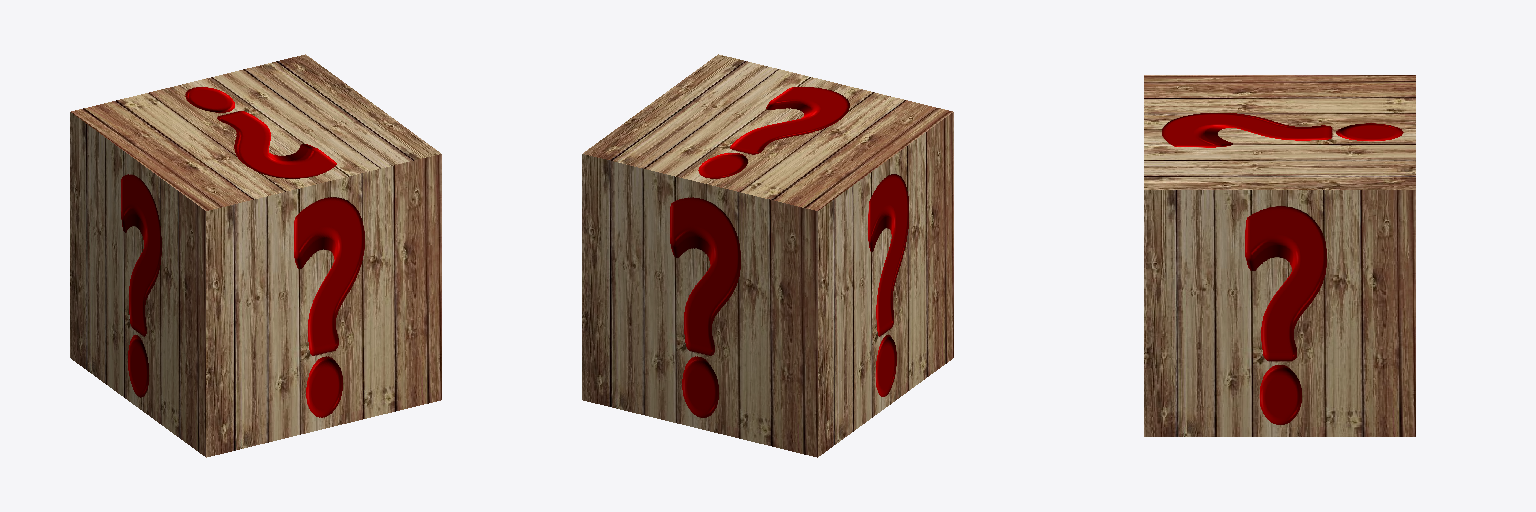
3 renders of one model, left to right at view 1: azimuth 30°, elevation 25°; view 2: azimuth 150°, elevation 25°; view 3: azimuth 270°, elevation 25°, orthographic.
Parts seen in each view (by area): view 1: Cube; view 2: Cube; view 3: Cube.
Part boxes in pixels (x1,y1,x2,y2): Cube: (70, 54, 441, 457); Cube: (582, 54, 953, 457); Cube: (1144, 75, 1415, 436).
Size of the model in its own units: 47 by 47 by 47.
Materials: 1 (1 with a texture image).